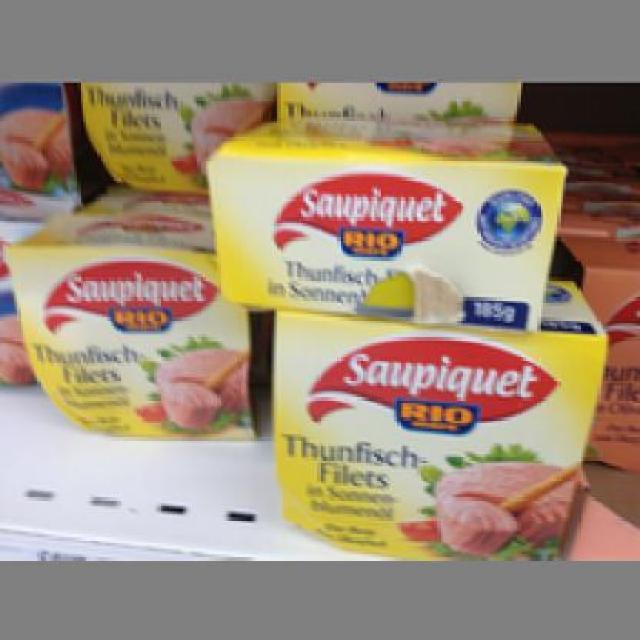Fish: (257, 300, 606, 554), (200, 113, 563, 330), (3, 211, 260, 440)
